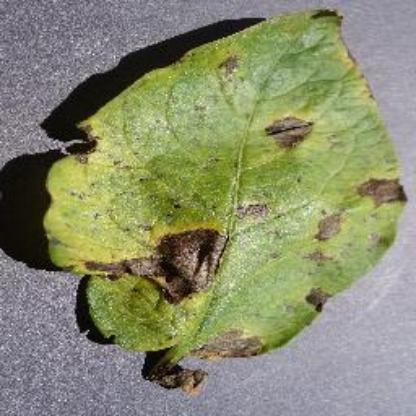Early-Blight: (34, 7, 414, 393)
